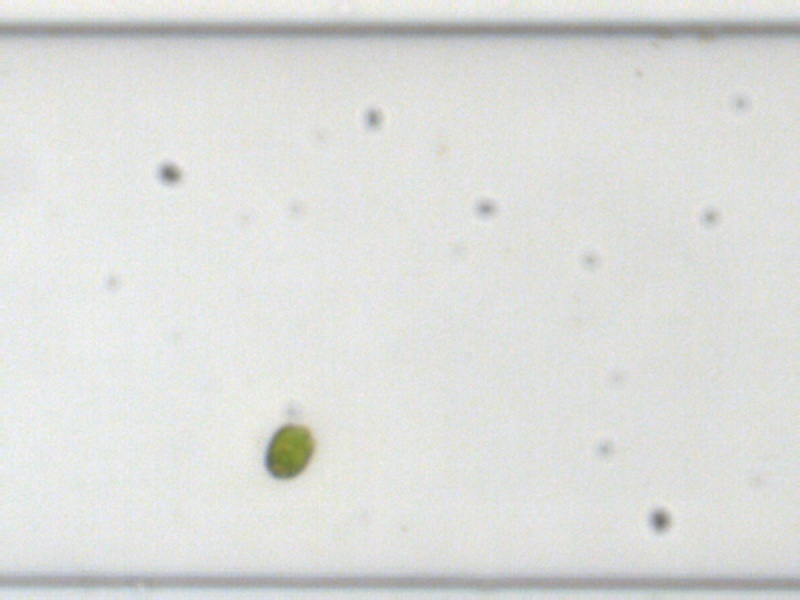Platymonas: (261, 420, 317, 482)
